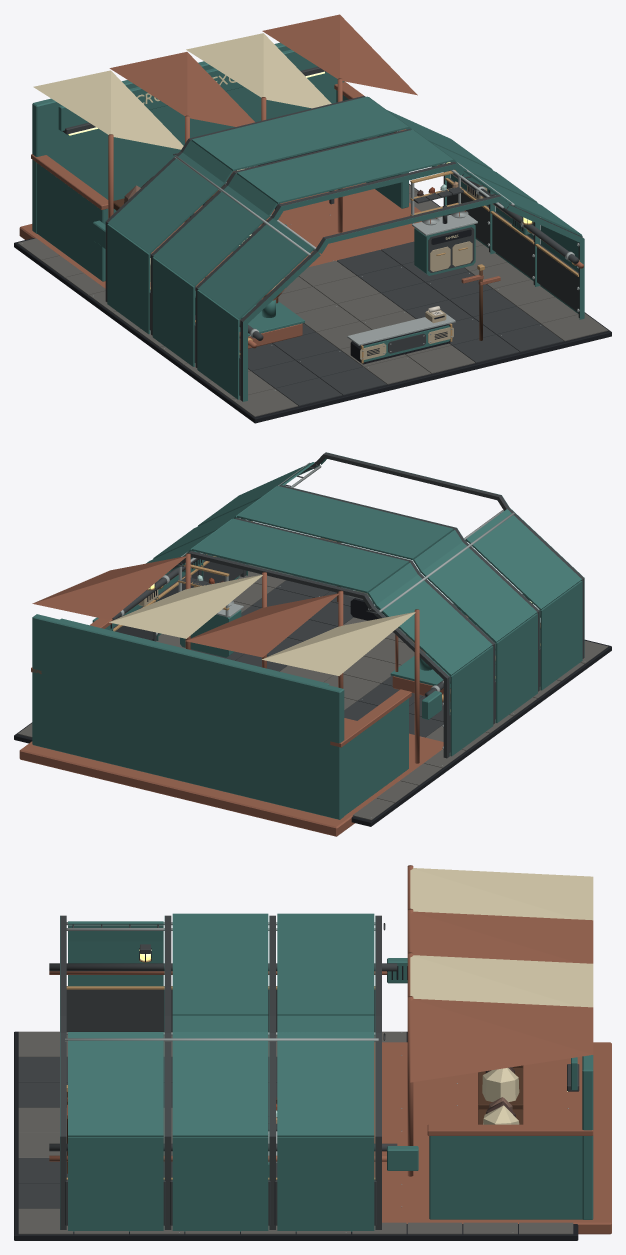
File: sloshwell-assay.glb
The picture shows the model from 3 angles, top to bottom: view 1: azimuth 30°, elevation 25°; view 2: azimuth 150°, elevation 25°; view 3: azimuth 270°, elevation 25°; orthographic projection. The views are drawn at different scales.
Visible parts, largest first — view 1: sloshwell-assay; view 2: sloshwell-assay; view 3: sloshwell-assay.
Part boxes in pixels (box(x1,y1,x2,y2)): sloshwell-assay: box(14, 14, 611, 423); sloshwell-assay: box(14, 452, 611, 836); sloshwell-assay: box(14, 865, 611, 1240).
Size of the model in its own units: 17.08 by 7.43 by 21.15.
21 materials, 18 textured.
